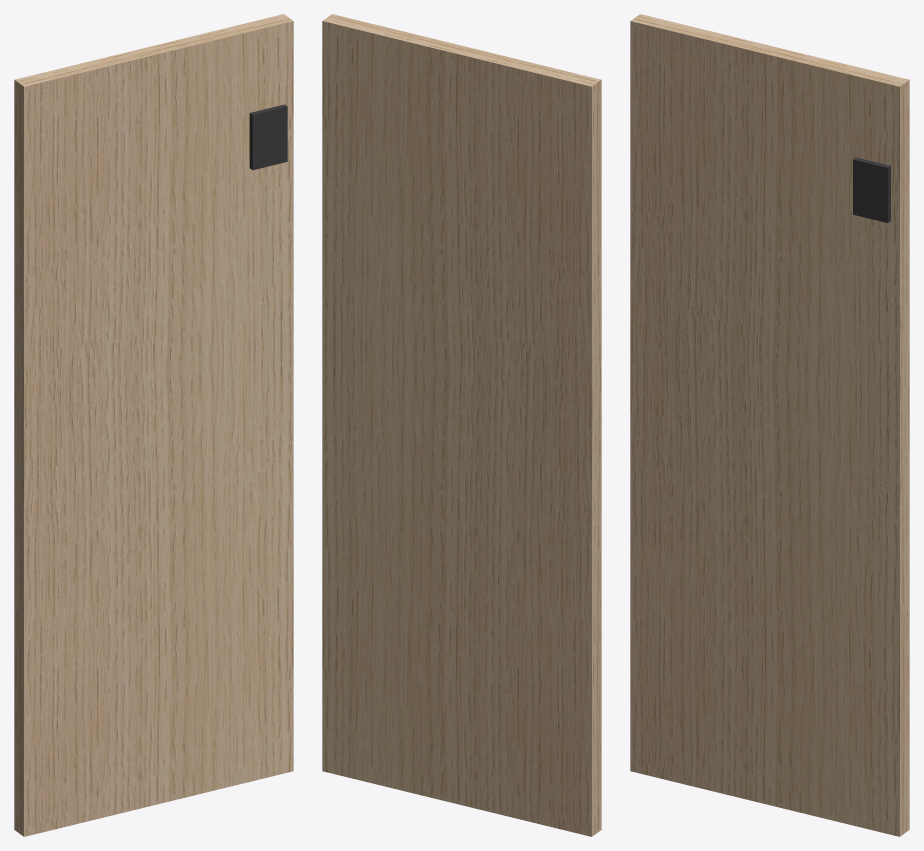
The model's file is A_skyvedor_bak.glb.
The picture shows the model from 3 angles, left to right: view 1: azimuth 30°, elevation 25°; view 2: azimuth 150°, elevation 25°; view 3: azimuth 330°, elevation 25°; orthographic projection.
Visible parts, largest first — view 1: 2025-284 Resepsjon høyskap; view 2: 2025-284 Resepsjon høyskap; view 3: 2025-284 Resepsjon høyskap.
Part boxes in pixels (<box>): 2025-284 Resepsjon høyskap: <box>14,14,293,836</box>; 2025-284 Resepsjon høyskap: <box>322,14,601,836</box>; 2025-284 Resepsjon høyskap: <box>630,14,909,836</box>.
Size of the model in its own units: 307 by 817 by 25.
2 materials, 1 textured.
